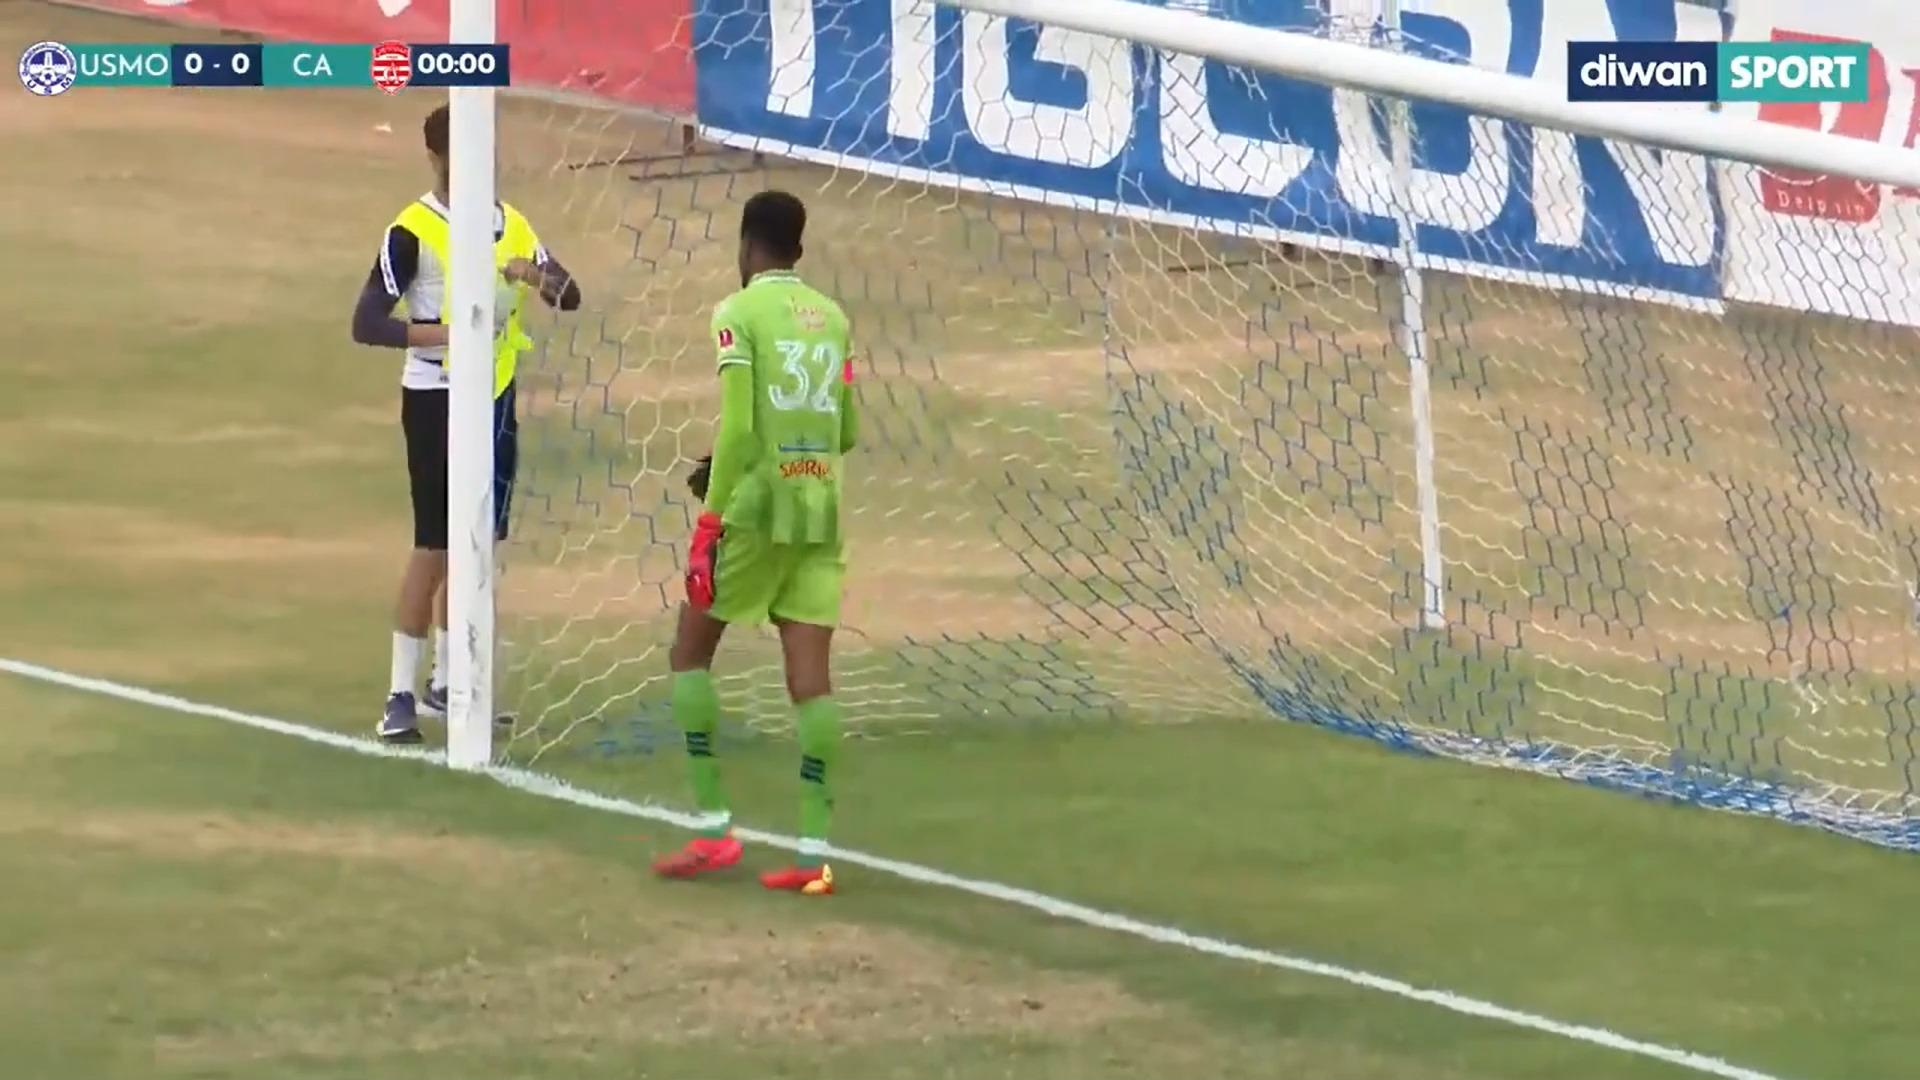goalkeeper: (655, 165, 849, 913)
